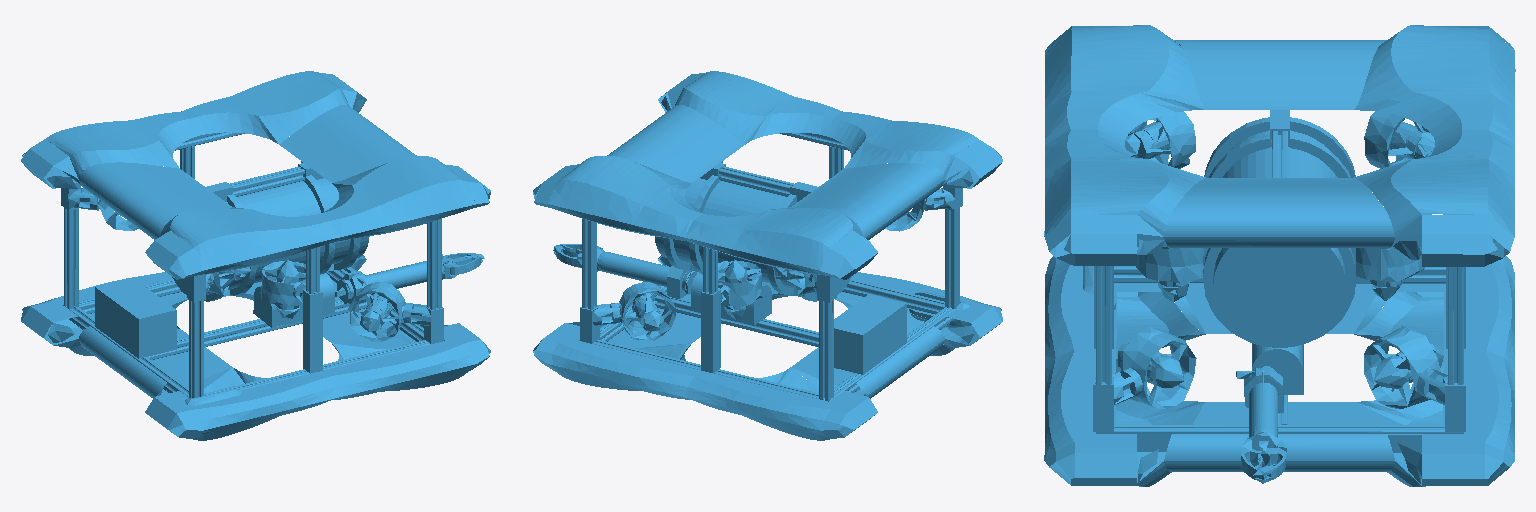
URDF robot description (seafox_rov):
<?xml version="1.0"?>

<robot name="seafox_rov">

  <!-- ================= WORLD FRAME ================= -->
  <link name="world"/>

  <joint name="world_to_base_link" type="fixed">
    <parent link="world"/>
    <child link="base_link"/>
    <origin xyz="0 0 0" rpy="0 0 0"/>
  </joint>


  <!-- ================= BASE LINK ================= -->
  <link name="base_link">

    <!-- ===== VISUAL ===== -->
    <visual>
      <!-- Si el modelo está de lado prueba: rpy="0 0 0" -->
      <origin xyz="0.45 -0.275 -0.25" rpy="1.5708 0 3.14"/>

      <geometry>
        <mesh filename="package://seafox_sim_2026/models/rov.stl"
              scale="0.001 0.001 0.001"/>
      </geometry>


    </visual>


    <!-- ===== COLLISION (simplificada) ===== -->
    <collision>
      <origin xyz="0 0 0" rpy="0 0 0"/>
      <geometry>
        <box size="0.6 0.4 0.3"/>
      </geometry>
    </collision>


    <!-- ===== INERTIAL (aproximado) ===== -->
    <inertial>
      <origin xyz="0 0 0"/>
      <mass value="20.0"/>

      <inertia ixx="1.0"
               ixy="0.0"
               ixz="0.0"
               iyy="1.0"
               iyz="0.0"
               izz="1.0"/>
    </inertial>

  </link>

</robot>

--- Facts derived from the render (not from the file) ---
Views: 3 orthographic renders of the robot side by side, from view 1: azimuth 30°, elevation 25°; view 2: azimuth 150°, elevation 25°; view 3: azimuth 270°, elevation 25°.
Model seafox_rov with 2 links and 1 joints (1 fixed), rooted at world, posed all joints at 0.
Visible links, largest first — view 1: base_link; view 2: base_link; view 3: base_link.
Link boxes in pixels (bbox=[...]): base_link: bbox=[21, 71, 490, 440]; base_link: bbox=[533, 71, 1002, 440]; base_link: bbox=[1044, 25, 1515, 486].
Size in the robot's own frame: 0.7681 by 0.5851 by 0.3952 metres.
Meshes: 1 distinct files referenced, 1 mesh visuals loaded (1 binary STL).
